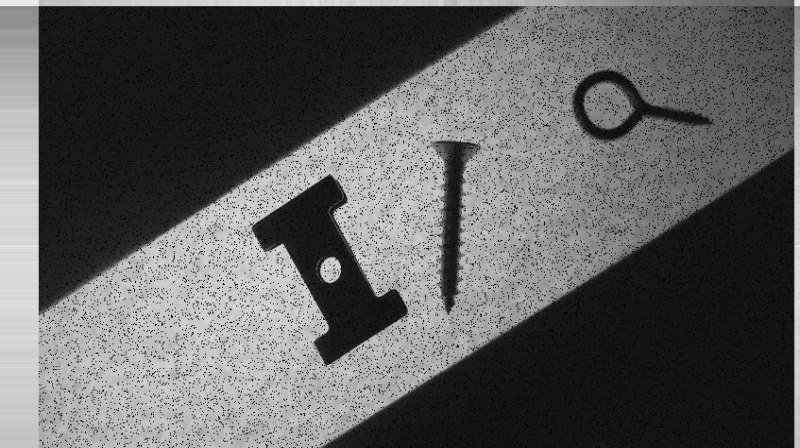O001: (570, 69, 714, 142)
O002: (253, 175, 408, 363)
S001: (425, 136, 482, 315)
